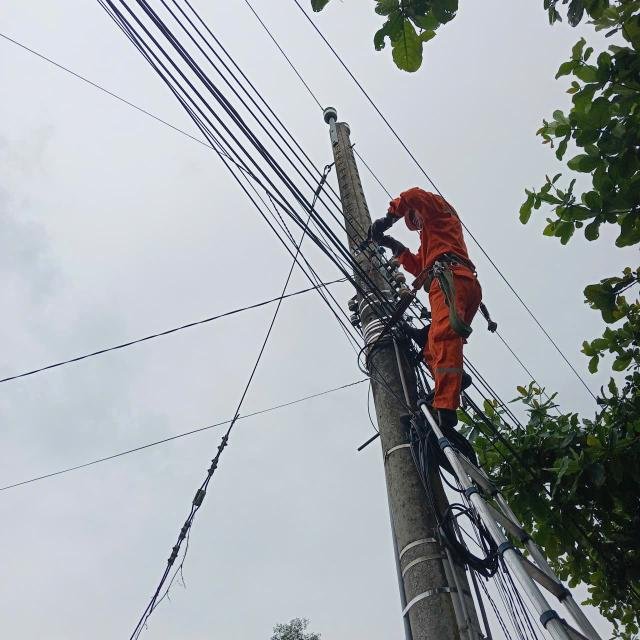gloves: (369, 226, 416, 259), (361, 211, 408, 236)
harness: (416, 250, 487, 283)
